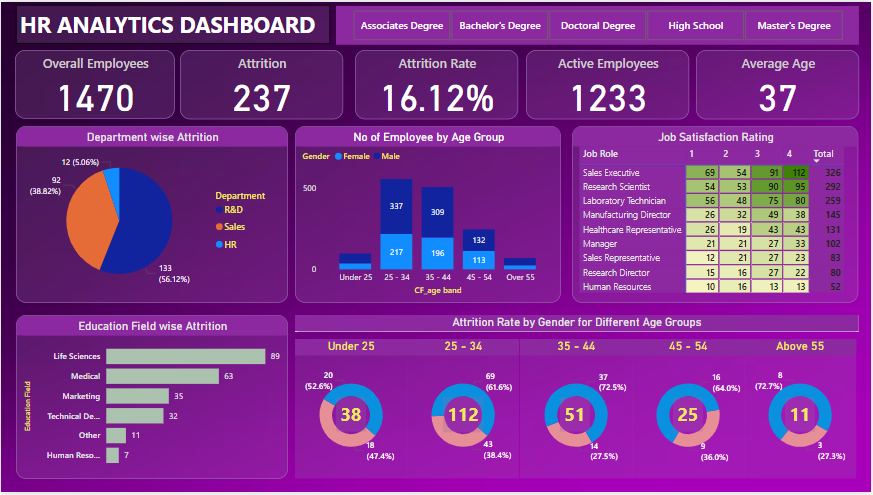

What the dashboard file says about the page in this screenshot:
{"tool":"powerbi","page":{"name":"Page 1","canvas":[1280,720],"ordinal":0},"visuals":[{"type":"card","title":"Overall Employees","fields":{"Values":["Sum(HR data.Employee Count)"]},"box":[21,70,235,101],"z":0},{"type":"card","title":"Attrition","fields":{"Values":["Sum(HR data.Attrition Count)"]},"box":[263,70,240,102],"z":1000},{"type":"card","title":"Attrition Rate","fields":{"Values":["HR data.Attrition Rate"]},"box":[521,70,240,102],"z":2000},{"type":"card","title":"Active Employees","fields":{"Values":["HR data.Active Employees"]},"box":[772,70,240,102],"z":3000},{"type":"card","title":"Average Age","fields":{"Values":["Avg(HR data.Age)"]},"box":[1022,70,240,102],"z":4000},{"type":"pieChart","title":"Department wise Attrition","fields":{"Category":["HR data.Department"],"Y":["Sum(HR data.Attrition Count)"]},"box":[21.4,182.9,400,260],"z":5000},{"type":"columnChart","title":"No of Employee by Age Group ","fields":{"Category":["HR data.CF_age band"],"Y":["Sum(HR data.Employee Count)"],"Series":["HR data.Gender"]},"box":[432.9,182.9,391.4,260],"z":6000},{"type":"pivotTable","title":"Job Satisfaction Rating","fields":{"Rows":["HR data.Job Role"],"Columns":["HR data.Job Satisfaction"],"Values":["Sum(HR data.Employee Count)"]},"box":[840,182.9,421.4,260],"z":7000},{"type":"barChart","title":"Education Field wise Attrition","fields":{"Category":["HR data.Education Field"],"Y":["Sum(HR data.Attrition Count)"]},"box":[21.4,460,400,241.4],"z":8000},{"type":"donutChart","title":"Under 25","fields":{"Category":["HR data.Gender"],"Y":["Sum(HR data.Attrition Count)"],"Series":["HR data.CF_age band"]},"box":[432.5,496.2,165,205],"z":9000},{"type":"textbox","title":"Attrition Rate by Gender for Different Age Groups","box":[432.5,460,828.8,25],"z":10000},{"type":"donutChart","title":"25 - 34","fields":{"Category":["HR data.Gender"],"Y":["Sum(HR data.Attrition Count)"],"Series":["HR data.CF_age band"]},"box":[597.5,496.2,165,205],"z":11000},{"type":"donutChart","title":"35 - 44","fields":{"Category":["HR data.Gender"],"Y":["Sum(HR data.Attrition Count)"],"Series":["HR data.CF_age band"]},"box":[762.5,496.2,165,205],"z":12000},{"type":"donutChart","title":"45 - 54","fields":{"Category":["HR data.Gender"],"Y":["Sum(HR data.Attrition Count)"],"Series":["HR data.CF_age band"]},"box":[927.5,496.2,165,205],"z":13000},{"type":"donutChart","title":"Above 55","fields":{"Category":["HR data.Gender"],"Y":["Sum(HR data.Attrition Count)"],"Series":["HR data.CF_age band"]},"box":[1092.5,496.2,165,205],"z":14000},{"type":"card","fields":{"Values":["Sum(HR data.Attrition Count)"]},"box":[492.5,581.2,43.8,51.2],"z":15000},{"type":"card","fields":{"Values":["Sum(HR data.Attrition Count)"]},"box":[650,580.9,59.1,51.8],"z":16000},{"type":"card","fields":{"Values":["Sum(HR data.Attrition Count)"]},"box":[822.5,581.2,43.8,51.2],"z":17000},{"type":"card","fields":{"Values":["Sum(HR data.Attrition Count)"]},"box":[987.5,581.2,43.8,51.2],"z":18000},{"type":"card","fields":{"Values":["Sum(HR data.Attrition Count)"]},"box":[1152.5,581.2,43.8,51.2],"z":19000},{"type":"textbox","box":[22,5,462,57],"z":20000},{"type":"slicer","fields":{"Values":["HR data.Education"]},"box":[492.9,5.7,768.6,57.1],"z":20001}]}

Visuals, with their boxes in screenshot pixels (x1, y1, x2, y2), scaled from the page's 1280x720 canvas onto the 873x495 screenshot:
"Overall Employees" card: x1=14 y1=48 x2=175 y2=118
"Attrition" card: x1=179 y1=48 x2=343 y2=118
"Attrition Rate" card: x1=355 y1=48 x2=519 y2=118
"Active Employees" card: x1=527 y1=48 x2=690 y2=118
"Average Age" card: x1=697 y1=48 x2=861 y2=118
"Department wise Attrition" pieChart: x1=15 y1=126 x2=287 y2=304
"No of Employee by Age Group " columnChart: x1=295 y1=126 x2=562 y2=304
"Job Satisfaction Rating" pivotTable: x1=573 y1=126 x2=860 y2=304
"Education Field wise Attrition" barChart: x1=15 y1=316 x2=287 y2=482
"Under 25" donutChart: x1=295 y1=341 x2=408 y2=482
"Attrition Rate by Gender for Different Age Groups" textbox: x1=295 y1=316 x2=860 y2=333
"25 - 34" donutChart: x1=408 y1=341 x2=520 y2=482
"35 - 44" donutChart: x1=520 y1=341 x2=633 y2=482
"45 - 54" donutChart: x1=633 y1=341 x2=745 y2=482
"Above 55" donutChart: x1=745 y1=341 x2=858 y2=482
card - Sum(HR data.Attrition Count): x1=336 y1=400 x2=366 y2=435
card - Sum(HR data.Attrition Count): x1=443 y1=399 x2=484 y2=435
card - Sum(HR data.Attrition Count): x1=561 y1=400 x2=591 y2=435
card - Sum(HR data.Attrition Count): x1=674 y1=400 x2=703 y2=435
card - Sum(HR data.Attrition Count): x1=786 y1=400 x2=816 y2=435
textbox: x1=15 y1=3 x2=330 y2=43
slicer - HR data.Education: x1=336 y1=4 x2=860 y2=43
